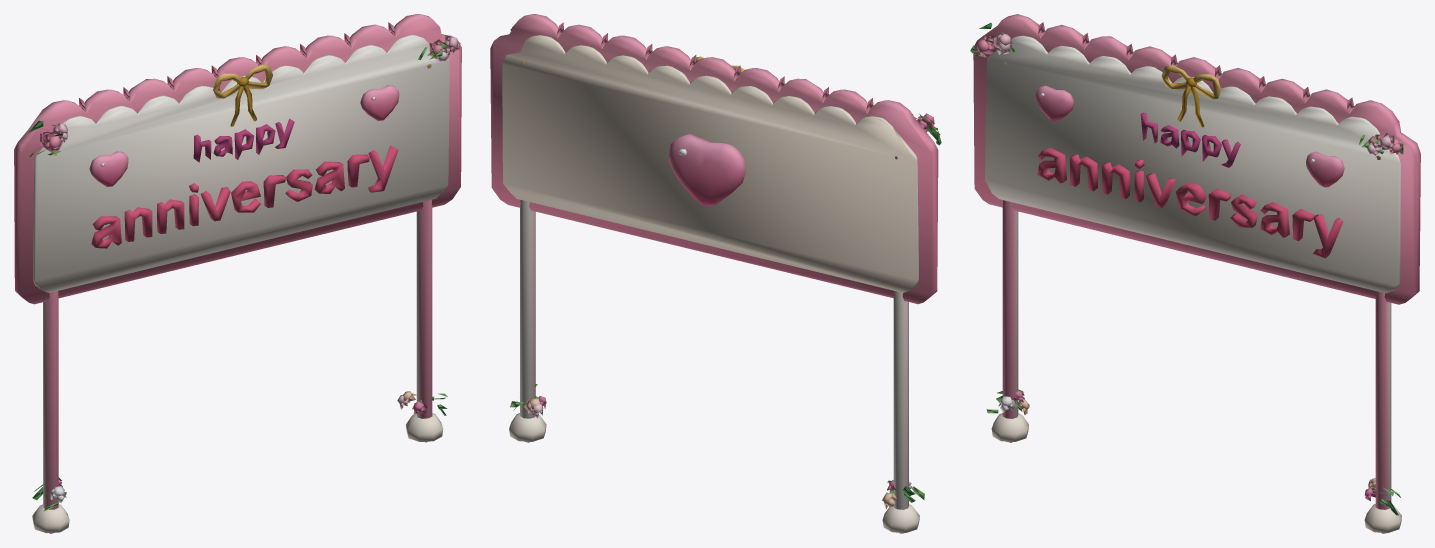
Rendered from prp_anniv_sign_anniv_lite.glb.
3 renders of one model, left to right at view 1: azimuth 30°, elevation 25°; view 2: azimuth 150°, elevation 25°; view 3: azimuth 330°, elevation 25°, orthographic.
Visible parts, largest first — view 1: INST_prp_anniv_sign_anniv_lite_sign_anniv; view 2: INST_prp_anniv_sign_anniv_lite_sign_anniv; view 3: INST_prp_anniv_sign_anniv_lite_sign_anniv.
Boxes of the visible parts, x1,y1,x2,y2 form: INST_prp_anniv_sign_anniv_lite_sign_anniv: [14, 14, 461, 533]; INST_prp_anniv_sign_anniv_lite_sign_anniv: [490, 14, 941, 533]; INST_prp_anniv_sign_anniv_lite_sign_anniv: [970, 14, 1420, 533].
Size of the model in its own units: 4.76 by 4.39 by 0.616.
